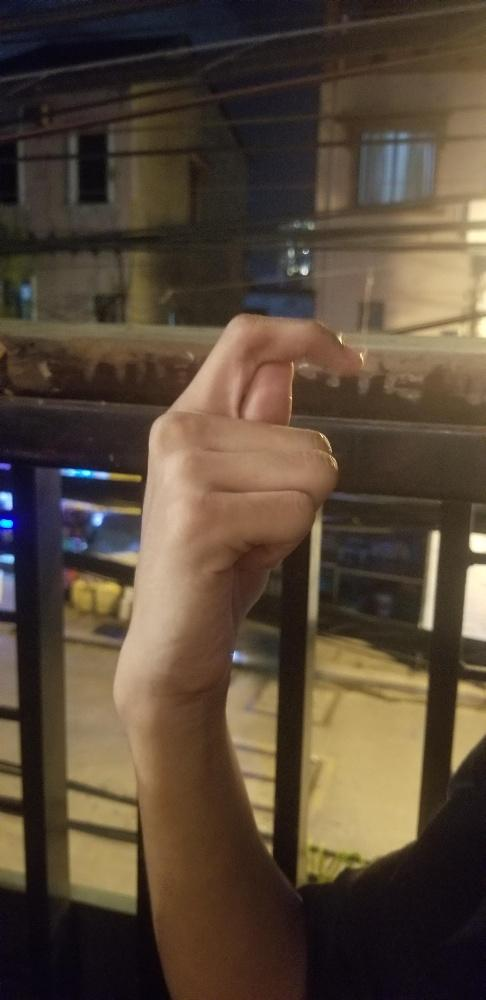t: (138, 310, 364, 687)
